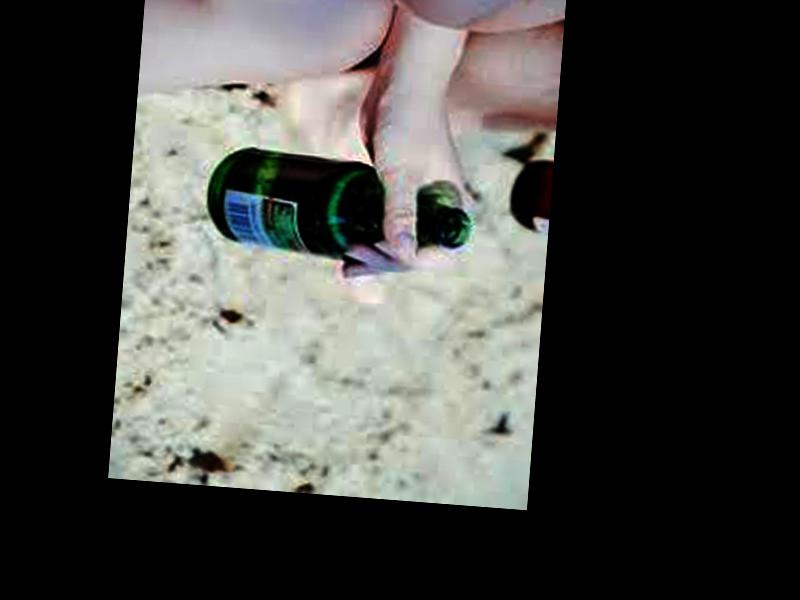Beer: (203, 143, 477, 267)
